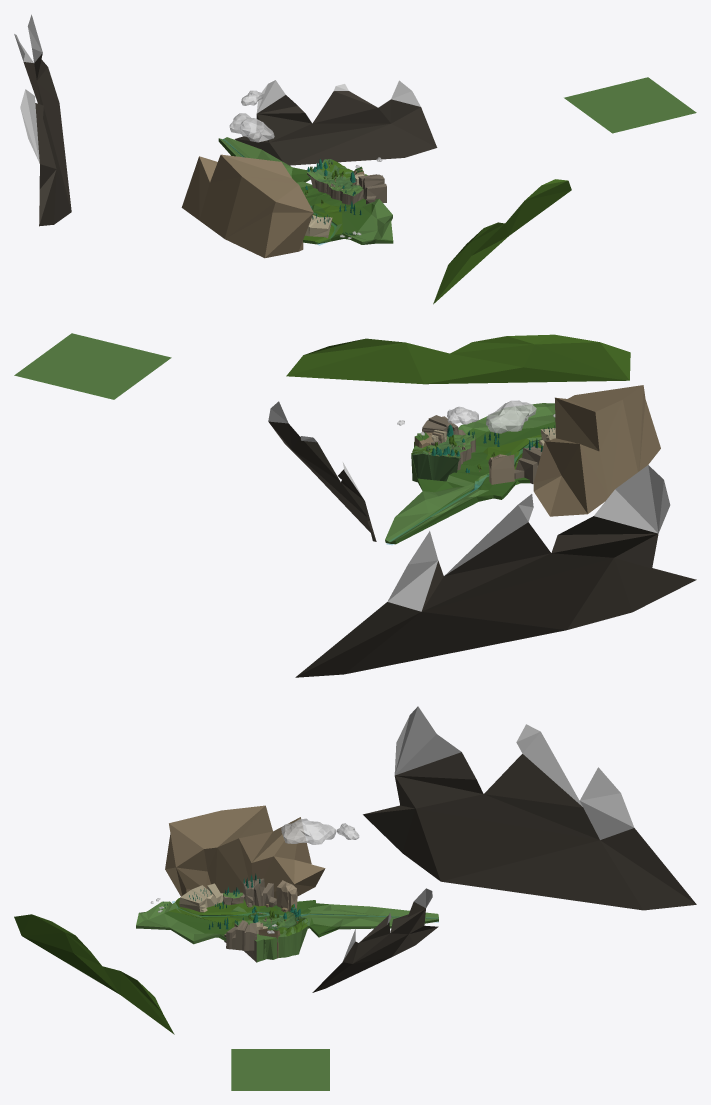
File: environment.6a306ba4.dae
The picture shows the model from 3 angles, top to bottom: view 1: azimuth 30°, elevation 25°; view 2: azimuth 150°, elevation 25°; view 3: azimuth 270°, elevation 25°; orthographic projection. The views are drawn at different scales.
Parts seen in each view (by area): view 1: Plane_003, Cube_087, Plane_002, Cube_020, Plane, Plane_005, Cube_003, Mball_005, Cube_008, Cube_018; view 2: Plane_002, Plane_005, Cube_087, Cube_020, Plane, Plane_003, Cube_003, Mball_005, Cube_010, Cube_012; view 3: Plane_002, Cube_087, Cube_020, Plane, Plane_005, Plane_003, Cube_003, Mball_005, Cube_018, Cube_008, Cube_012.
Boxes of the visible parts, left/top/right/bottom form: Plane_003: left=234, top=80, right=437, bottom=165; Cube_087: left=181, top=154, right=313, bottom=258; Plane_002: left=14, top=14, right=71, bottom=226; Cube_020: left=218, top=137, right=393, bottom=244; Plane: left=564, top=77, right=696, bottom=133; Plane_005: left=433, top=179, right=571, bottom=304; Cube_003: left=307, top=159, right=367, bottom=204; Mball_005: left=229, top=113, right=274, bottom=142; Cube_008: left=358, top=174, right=386, bottom=203; Cube_018: left=305, top=215, right=332, bottom=238; Plane_002: left=295, top=465, right=696, bottom=677; Plane_005: left=286, top=334, right=630, bottom=384; Cube_087: left=533, top=385, right=660, bottom=516; Cube_020: left=385, top=403, right=555, bottom=544; Plane: left=14, top=333, right=171, bottom=399; Plane_003: left=268, top=401, right=376, bottom=541; Cube_003: left=411, top=433, right=475, bottom=482; Mball_005: left=486, top=400, right=536, bottom=433; Cube_010: left=488, top=454, right=514, bottom=486; Cube_012: left=514, top=445, right=541, bottom=483; Plane_002: left=363, top=706, right=696, bottom=910; Cube_087: left=165, top=805, right=325, bottom=898; Cube_020: left=136, top=898, right=438, bottom=944; Plane: left=231, top=1049, right=329, bottom=1090; Plane_005: left=14, top=914, right=174, bottom=1034; Plane_003: left=312, top=888, right=438, bottom=992; Cube_003: left=234, top=909, right=309, bottom=962; Mball_005: left=281, top=818, right=336, bottom=844; Cube_018: left=179, top=883, right=229, bottom=912; Cube_008: left=224, top=920, right=256, bottom=950; Cube_012: left=243, top=878, right=276, bottom=907.
Size of the model in its own units: 588 by 580 by 142.
